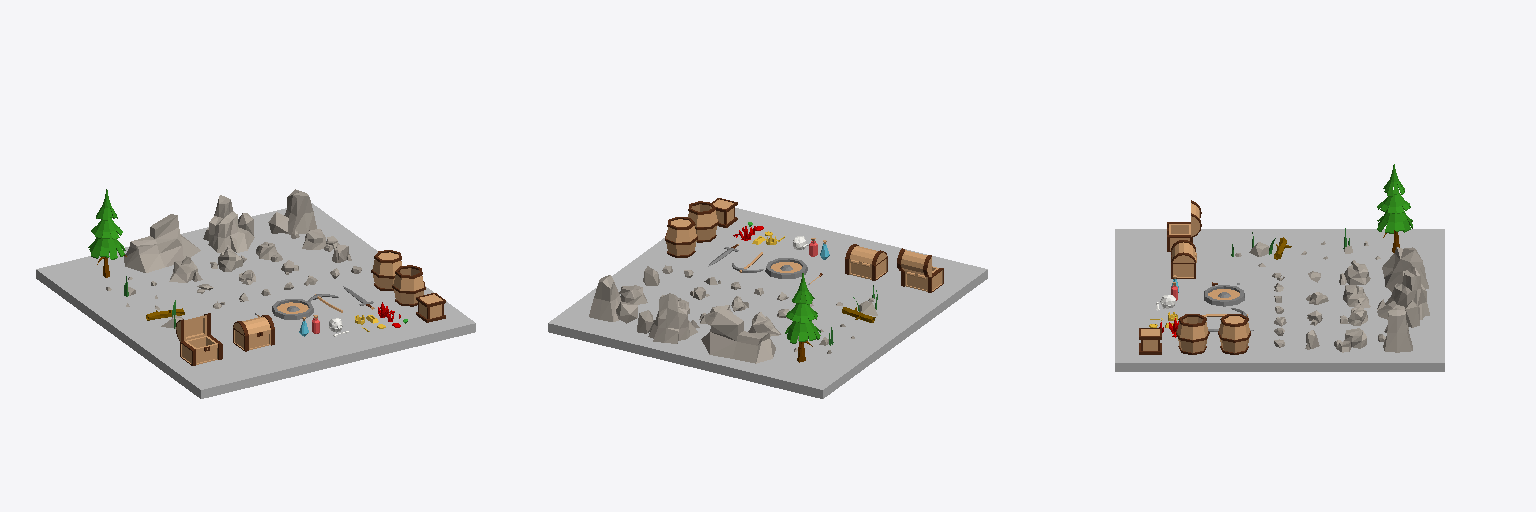
Rendered from treasure.obj.
3 views of the same model, side by side, from view 1: azimuth 30°, elevation 25°; view 2: azimuth 150°, elevation 25°; view 3: azimuth 270°, elevation 25° (orthographic).
Parts seen in each view (by area): view 1: Ground, Stone_1, Stone_2, Tree_Fir, Stone_3, Chest_Clos, Barrel_Ope, Chest_Ope0, Barrel_Clo, Chest_Open, Shield, Box (+2 smaller); view 2: Ground, Stone_1, Stone_2, Tree_Fir, Stone_3, Chest_Clos, Barrel_Clo, Barrel_Ope, Chest_Open, Shield, Chest_Ope0, Rocks_and0 (+1 smaller); view 3: Ground, Stone_2, Tree_Fir, Stone_1, Barrel_Clo, Barrel_Ope, Stone_3, Chest_Clos, Shield, Box, Rocks_and0.
Part boxes in pixels (x1,y1,x2,y2): Ground: (36, 203, 475, 398); Stone_1: (124, 214, 200, 272); Stone_2: (203, 195, 254, 252); Tree_Fir: (88, 189, 126, 277); Stone_3: (268, 189, 316, 238); Chest_Clos: (233, 315, 274, 351); Barrel_Ope: (392, 265, 425, 306); Chest_Ope0: (180, 335, 222, 365); Barrel_Clo: (371, 250, 401, 290); Chest_Open: (176, 313, 210, 341); Shield: (272, 299, 313, 319); Box: (416, 293, 445, 322); Ground: (548, 208, 987, 398); Stone_1: (701, 306, 775, 363); Stone_2: (637, 293, 699, 343); Tree_Fir: (785, 273, 820, 362); Stone_3: (589, 275, 637, 323); Chest_Clos: (845, 244, 887, 280); Barrel_Clo: (665, 217, 697, 257); Barrel_Ope: (687, 201, 718, 242); Chest_Open: (897, 248, 931, 277); Shield: (765, 258, 807, 278); Chest_Ope0: (901, 266, 943, 292); Rocks_and0: (836, 285, 877, 326); Ground: (1115, 229, 1444, 371); Stone_2: (1377, 267, 1429, 327); Tree_Fir: (1377, 164, 1412, 252); Stone_1: (1382, 247, 1428, 291); Barrel_Clo: (1218, 314, 1250, 354); Barrel_Ope: (1176, 314, 1209, 354); Stone_3: (1378, 308, 1412, 352); Chest_Clos: (1171, 240, 1196, 278); Shield: (1204, 285, 1244, 306); Box: (1139, 328, 1161, 354); Rocks_and0: (1231, 232, 1306, 266).
Size of the model in its own units: 2.18 by 0.7473 by 2.27.